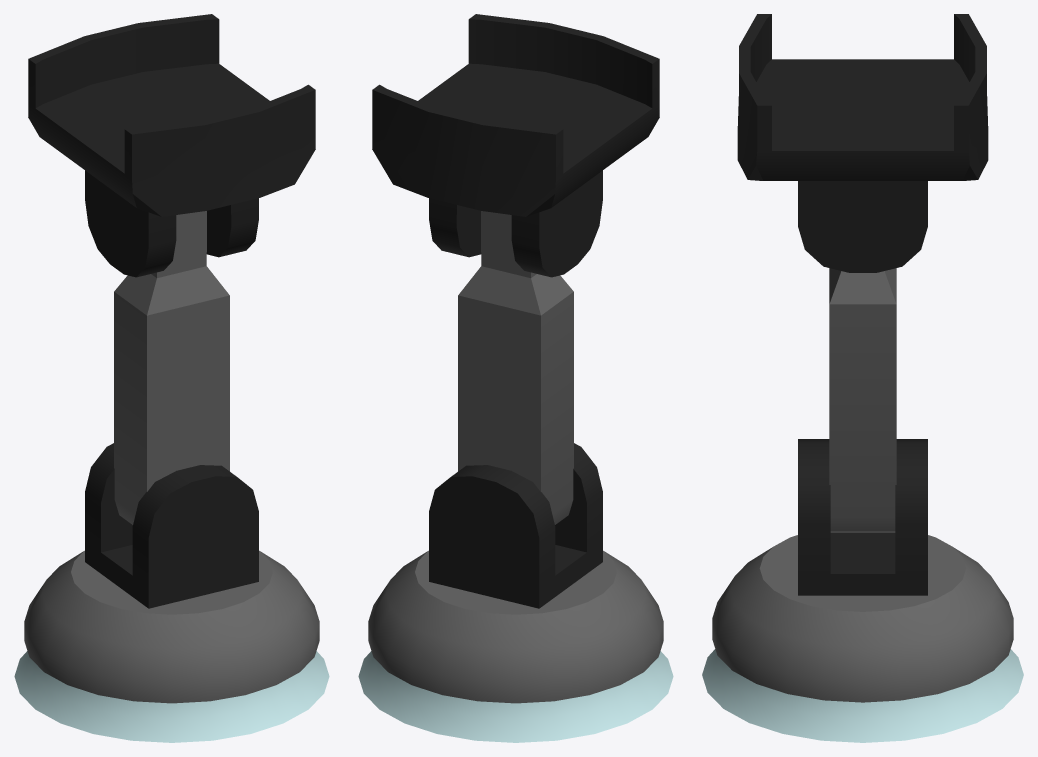
File: phone.fbx
The picture shows the model from 3 angles, left to right: view 1: azimuth 30°, elevation 25°; view 2: azimuth 150°, elevation 25°; view 3: azimuth 270°, elevation 25°; orthographic projection. The views are drawn at different scales.
Parts seen in each view (by area): view 1: Cylinder.002, Cylinder, Cube, Cylinder.001; view 2: Cylinder.002, Cylinder, Cube, Cylinder.001; view 3: Cylinder, Cylinder.002, Cube, Cylinder.001.
Boxes of the visible parts, x1=… form: Cylinder.002: x1=28, y1=14, x2=315, y2=277; Cylinder: x1=14, y1=550, x2=329, y2=742; Cube: x1=114, y1=211, x2=229, y2=524; Cylinder.001: x1=85, y1=443, x2=258, y2=608; Cylinder.002: x1=372, y1=14, x2=659, y2=277; Cylinder: x1=358, y1=550, x2=673, y2=742; Cube: x1=458, y1=211, x2=573, y2=524; Cylinder.001: x1=429, y1=443, x2=602, y2=608; Cylinder: x1=702, y1=535, x2=1023, y2=742; Cylinder.002: x1=737, y1=14, x2=988, y2=272; Cube: x1=829, y1=268, x2=896, y2=532; Cylinder.001: x1=798, y1=439, x2=927, y2=595.
Bounding box in the file's own units: 230 × 486 × 230.
